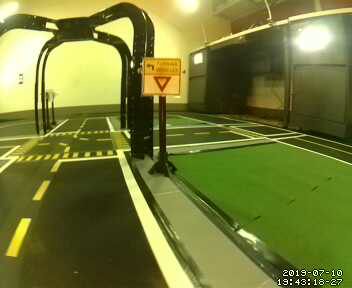Turn Yield: (141, 56, 183, 96)
